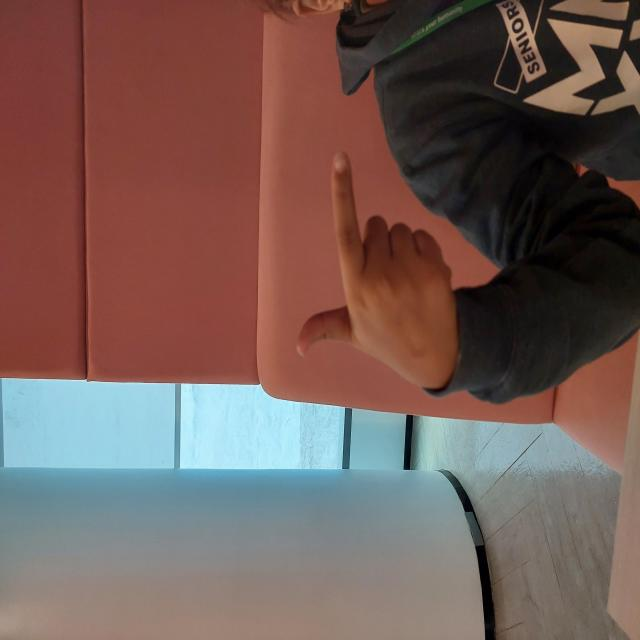G: (240, 290, 495, 459)
